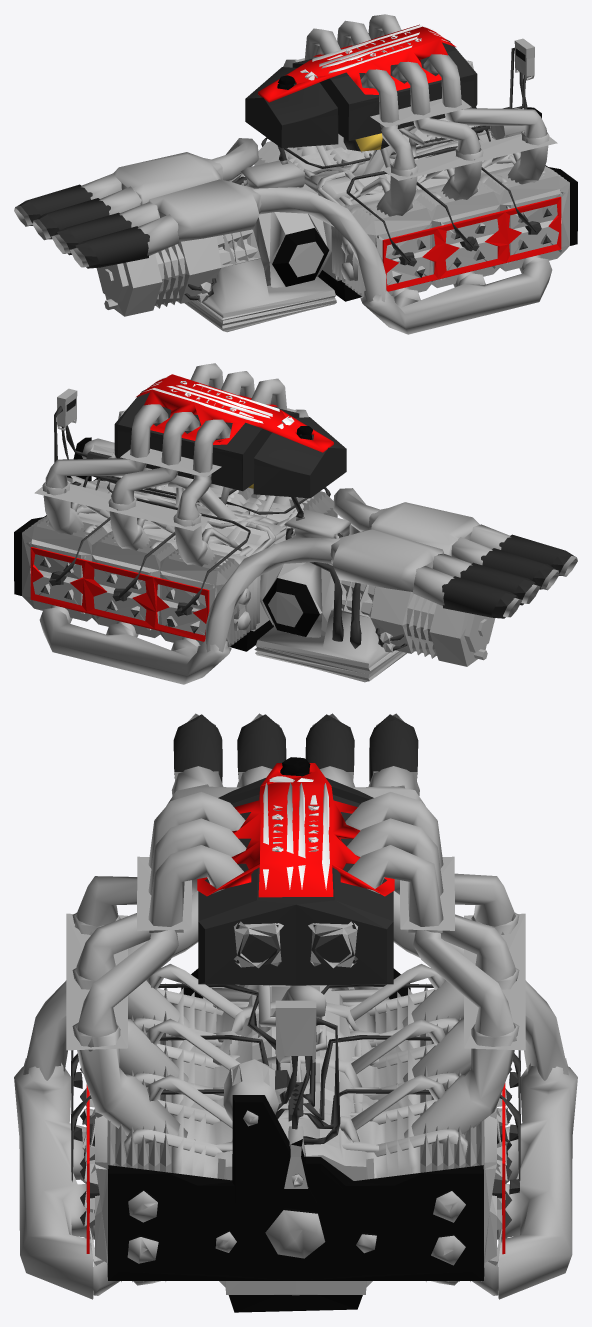
Rendered from eng-f6-30-t.glb.
The picture shows the model from 3 angles, top to bottom: view 1: azimuth 30°, elevation 25°; view 2: azimuth 150°, elevation 25°; view 3: azimuth 270°, elevation 25°; orthographic projection. The views are drawn at different scales.
Visible parts, largest first — view 1: Object_10; view 2: Object_10; view 3: Object_10.
Part boxes in pixels (bbox=[...]): Object_10: bbox=[14, 14, 577, 334]; Object_10: bbox=[14, 363, 577, 684]; Object_10: bbox=[14, 713, 577, 1312].
Bounding box in the file's own units: 15.86 × 7.3 × 9.21.
